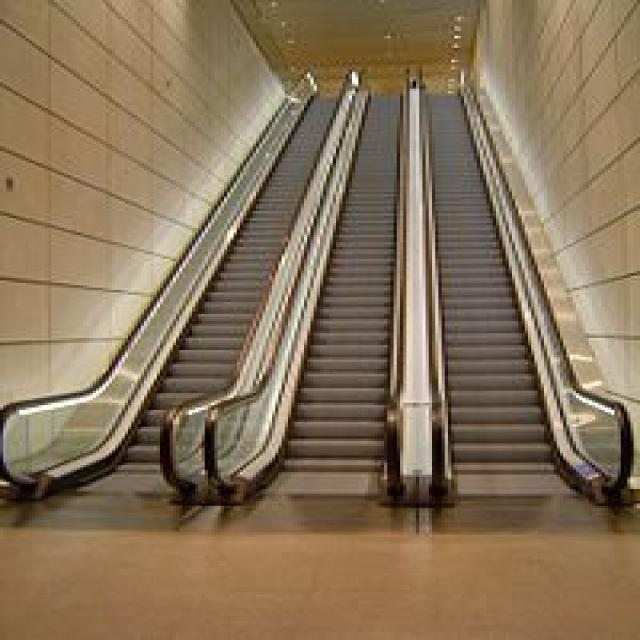escalator: (0, 60, 364, 542), (200, 62, 433, 549), (416, 67, 637, 555)
